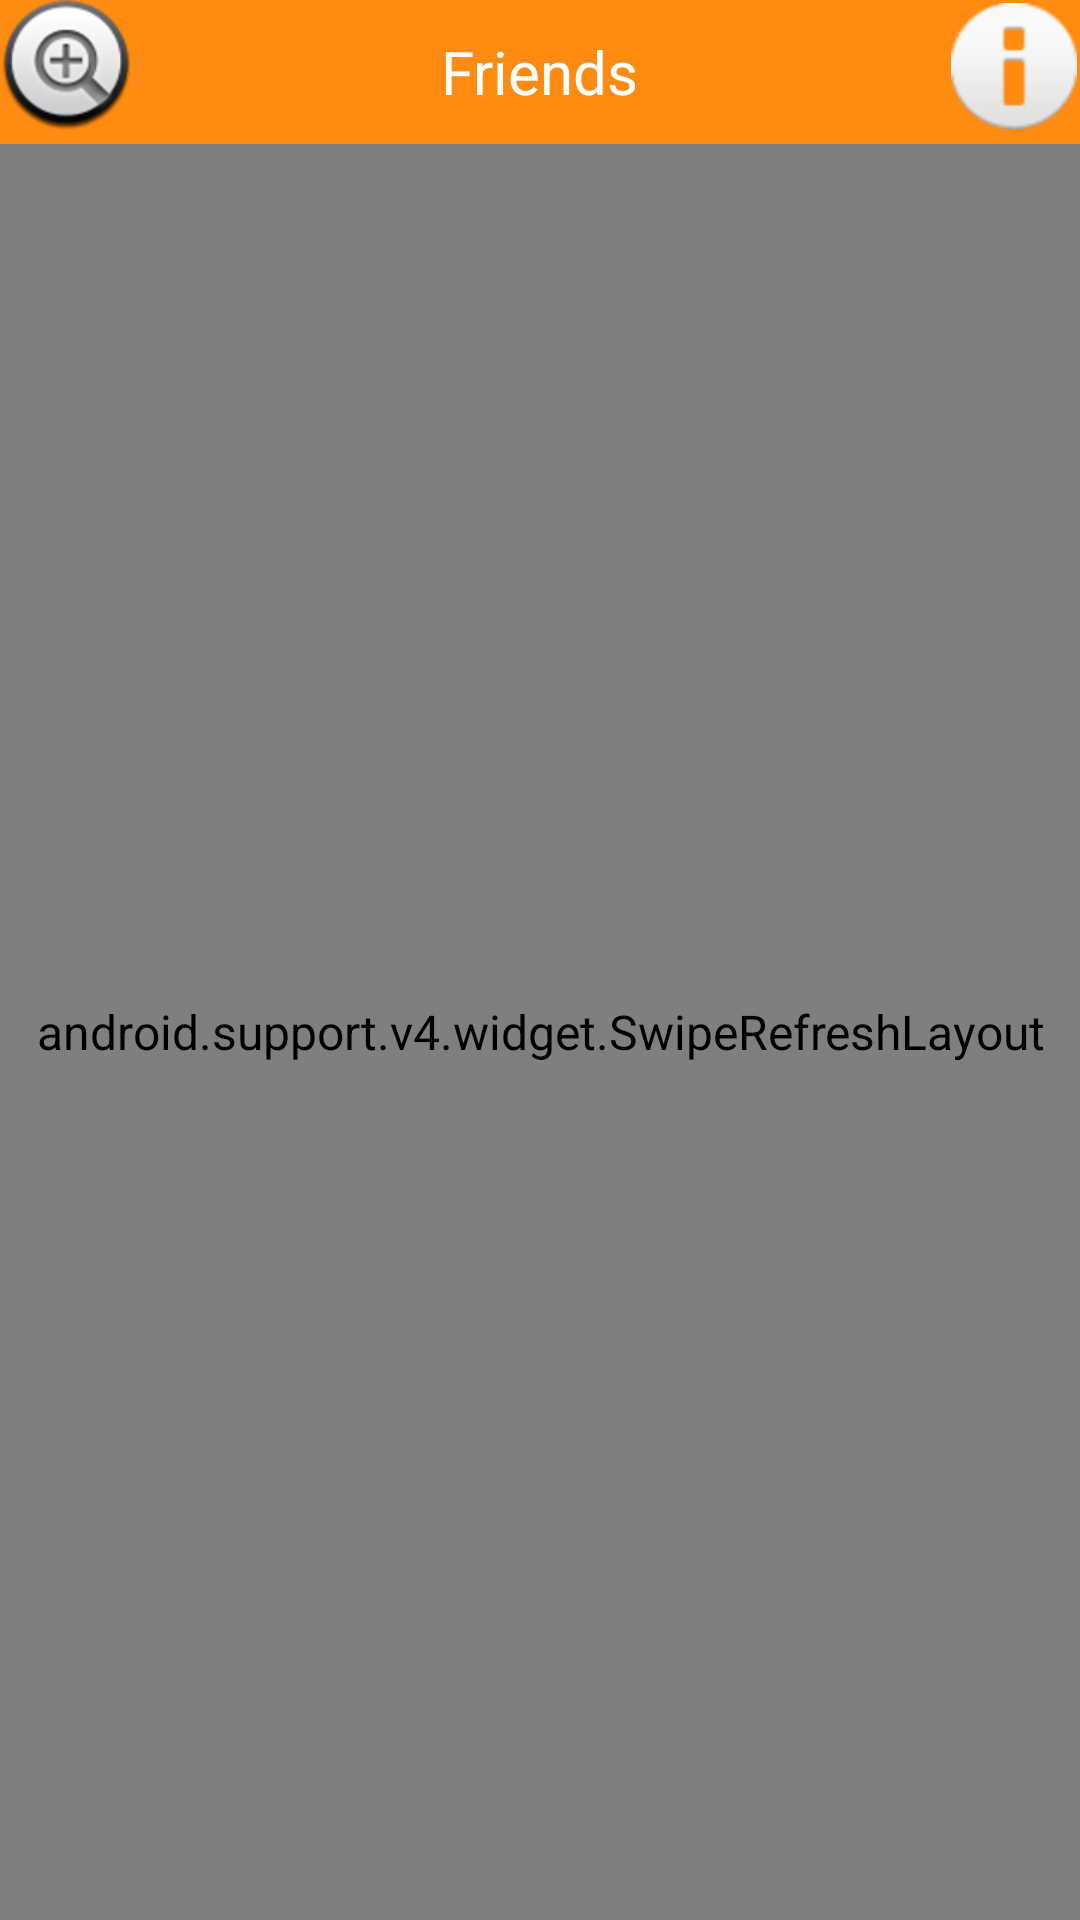

Where to tap for icons on this 1080*1920 app screen, as (x=x, y=y):
info: (x=1014, y=66)
